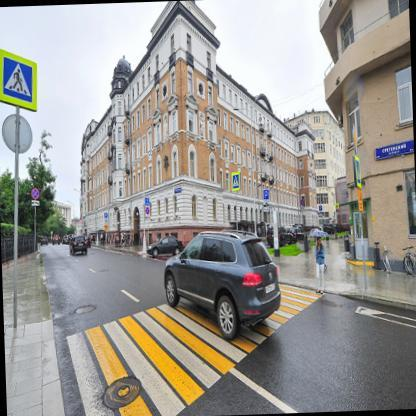road_sign: (0, 49, 36, 111), (353, 154, 362, 188), (231, 171, 240, 192), (262, 188, 271, 202), (31, 188, 41, 200), (31, 200, 40, 207)
